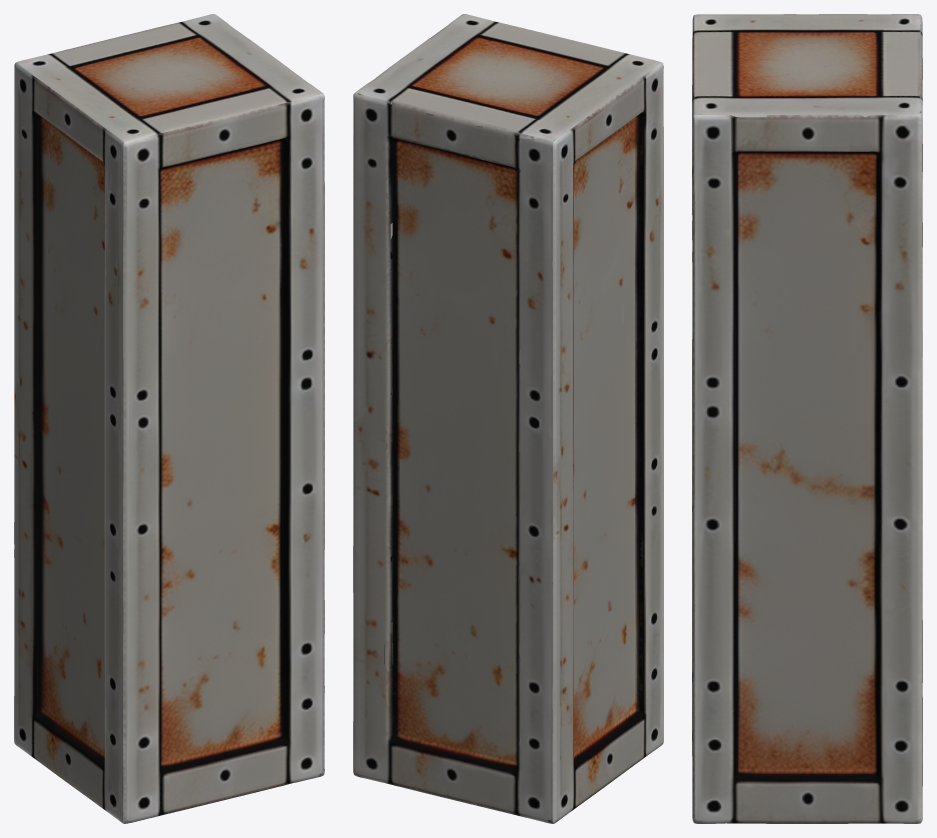
Rendered from catalog-build-36.glb.
3 views of the same model, side by side, from view 1: azimuth 30°, elevation 25°; view 2: azimuth 150°, elevation 25°; view 3: azimuth 270°, elevation 25° (orthographic). The views are drawn at different scales.
Visible parts, largest first — view 1: tmpkbhyrce9.ply; view 2: tmpkbhyrce9.ply; view 3: tmpkbhyrce9.ply.
Boxes of the visible parts, x1,y1,x2,y2 form: tmpkbhyrce9.ply: (14,14,324,823); tmpkbhyrce9.ply: (353,14,663,823); tmpkbhyrce9.ply: (692,14,922,823).
Size of the model in its own units: 0.6087 by 1.96 by 0.5781.
1 material, 1 textured.
